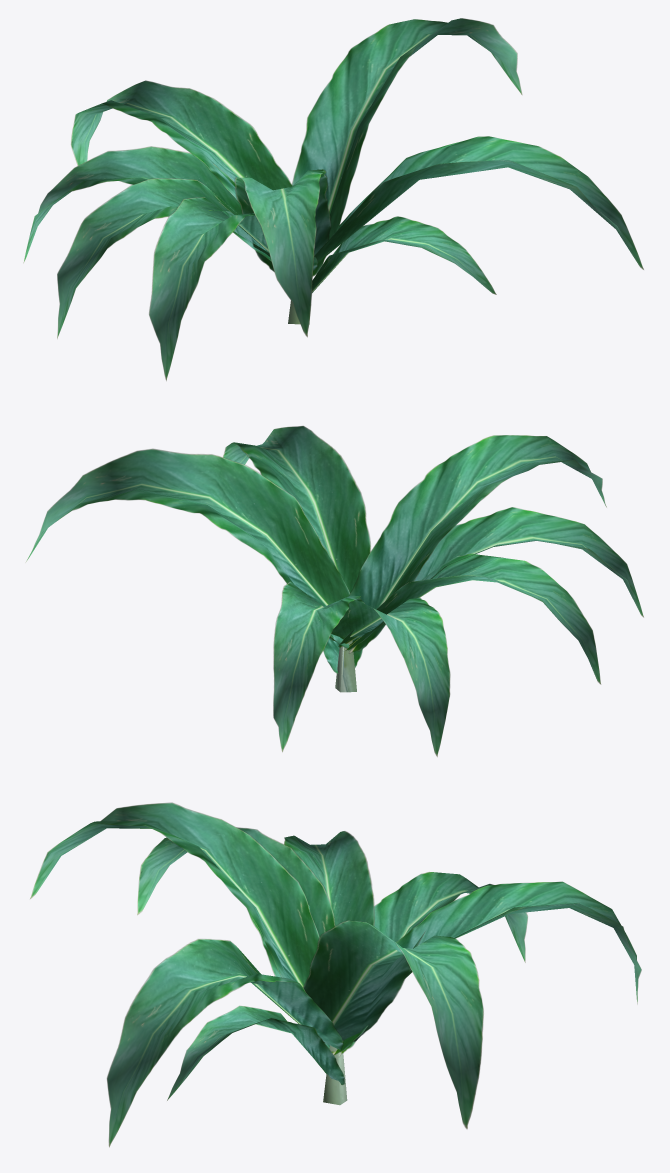
File: kecombrang_02_A_001.glb
The picture shows the model from 3 angles, top to bottom: view 1: azimuth 30°, elevation 25°; view 2: azimuth 150°, elevation 25°; view 3: azimuth 270°, elevation 25°; orthographic projection. The views are drawn at different scales.
Visible parts, largest first — view 1: kecombrang_02_A.001; view 2: kecombrang_02_A.001; view 3: kecombrang_02_A.001.
Boxes of the visible parts, x1=… form: kecombrang_02_A.001: x1=23, y1=18, x2=643, y2=380; kecombrang_02_A.001: x1=25, y1=426, x2=643, y2=756; kecombrang_02_A.001: x1=30, y1=802, x2=641, y2=1147.
Size of the model in its own units: 2.52 by 1.01 by 2.31.
3 materials, 3 textured.
